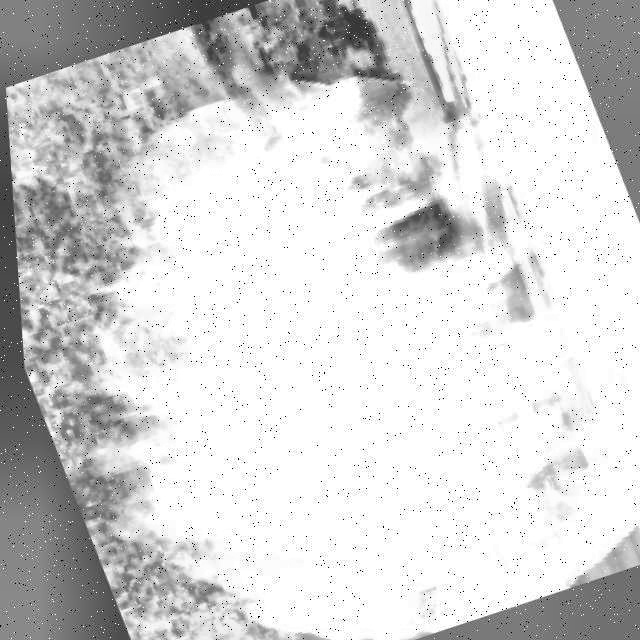Smoke: (9, 0, 640, 640)
